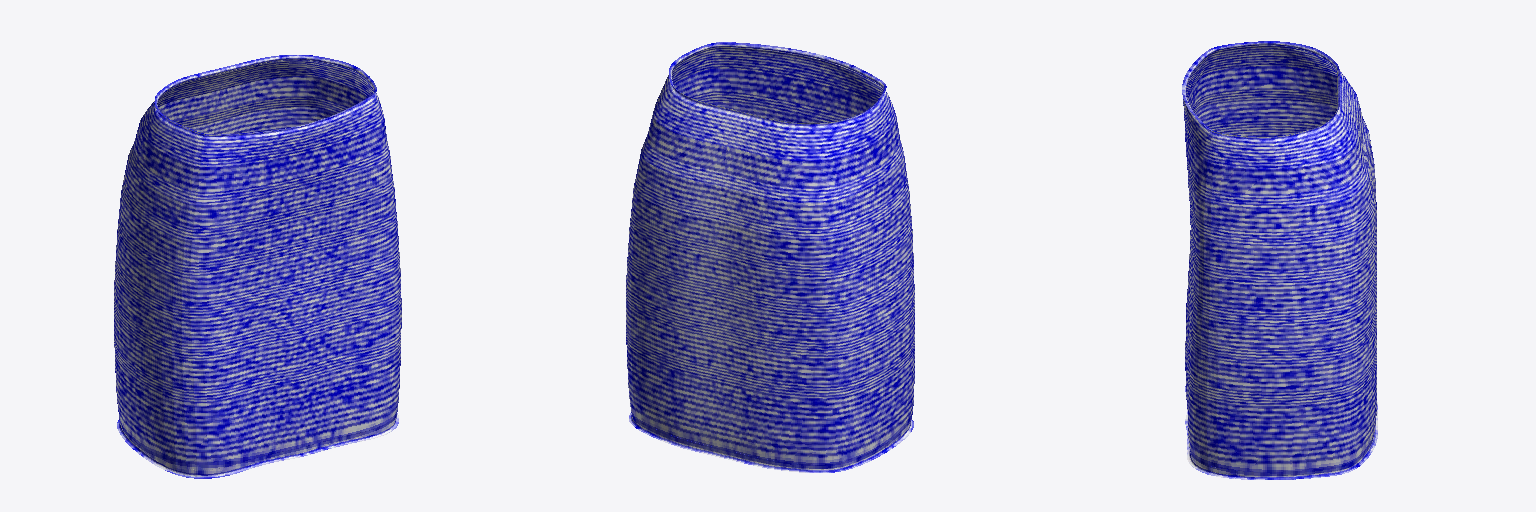
3 views of the same model, side by side, from view 1: azimuth 30°, elevation 25°; view 2: azimuth 150°, elevation 25°; view 3: azimuth 270°, elevation 25° (orthographic).
Parts seen in each view (by area): view 1: A3skirt01; view 2: A3skirt01; view 3: A3skirt01.
Part boxes in pixels (left/top/right/bottom): A3skirt01: left=114, top=55, right=401, bottom=478; A3skirt01: left=626, top=42, right=914, bottom=472; A3skirt01: left=1182, top=41, right=1377, bottom=479.
Bounding box in the file's own units: 0.2646 × 0.3419 × 0.1815.
Materials: 1 (1 with a texture image).